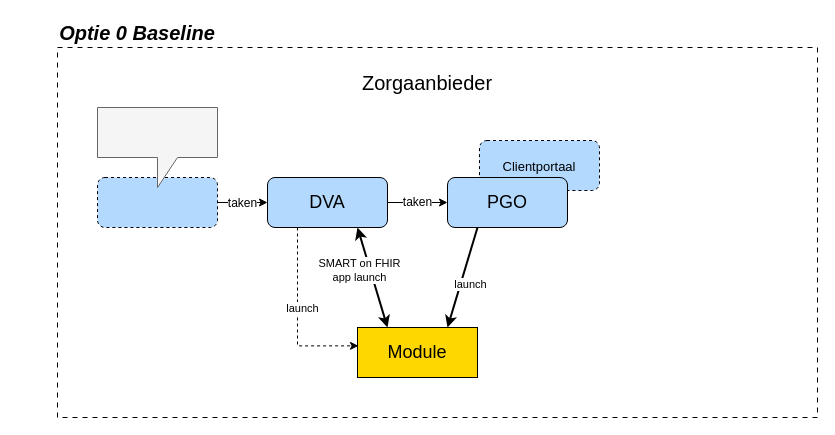
Some shapes in this 835 by 435 pixel diagram are drawn without their labels. The box of each missing label's shape, as (x1, y1, x2, y2) in pixels:
Maakt taak: (96, 106, 218, 188)
Xis: (96, 176, 218, 228)
